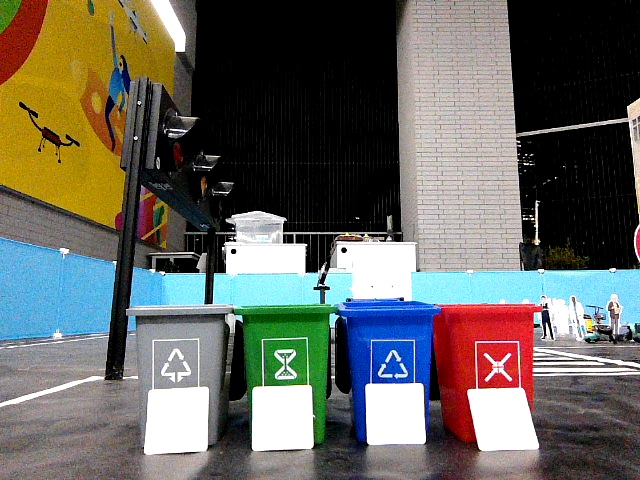blue_open: (347, 297, 427, 382)
green_open: (247, 305, 325, 383)
grey_open: (138, 305, 224, 383)
red_open: (447, 303, 529, 384)
